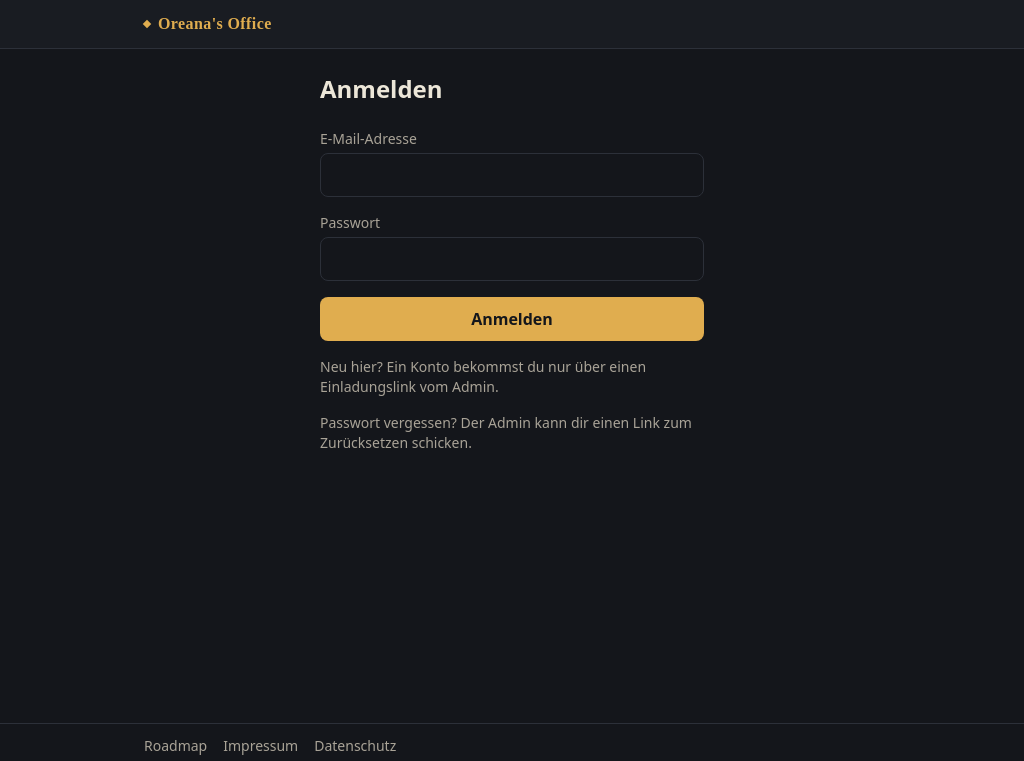
SignInPage › ignores a return path that leaves the app
Type "mira@example.org" into the field labelled "E-Mail-Adresse" at {"x": 512, "y": 175}, box [320, 153, 704, 197]
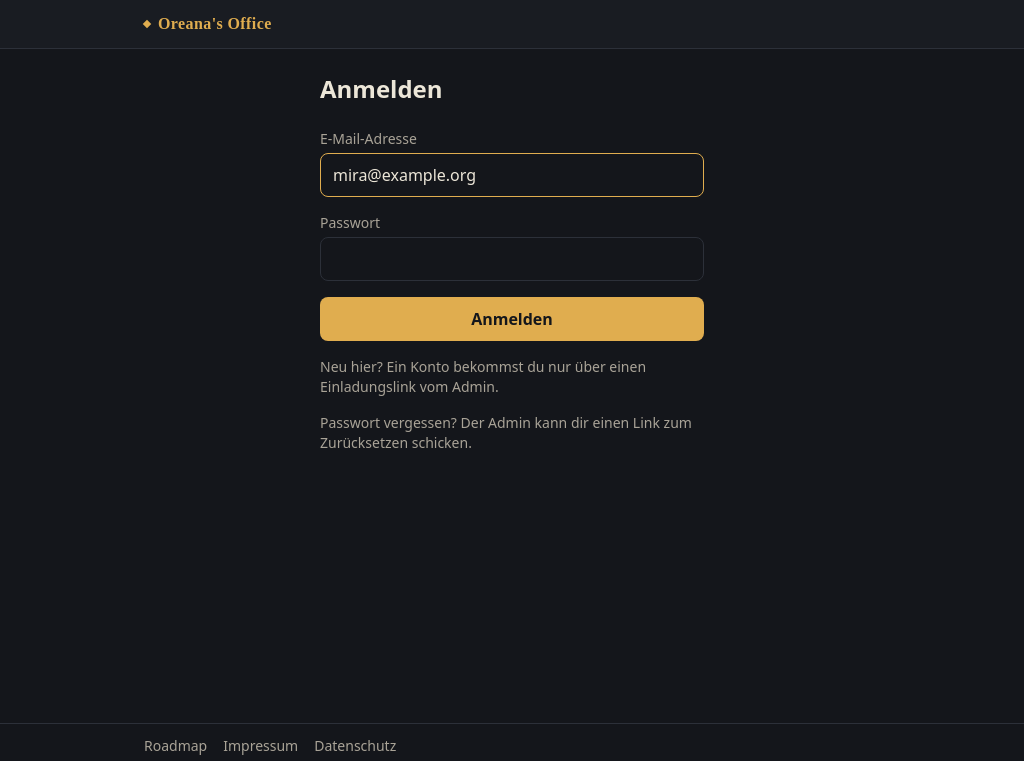
Type "geheim123" into the password field labelled "Passwort" at {"x": 512, "y": 259}, box [320, 237, 704, 281]
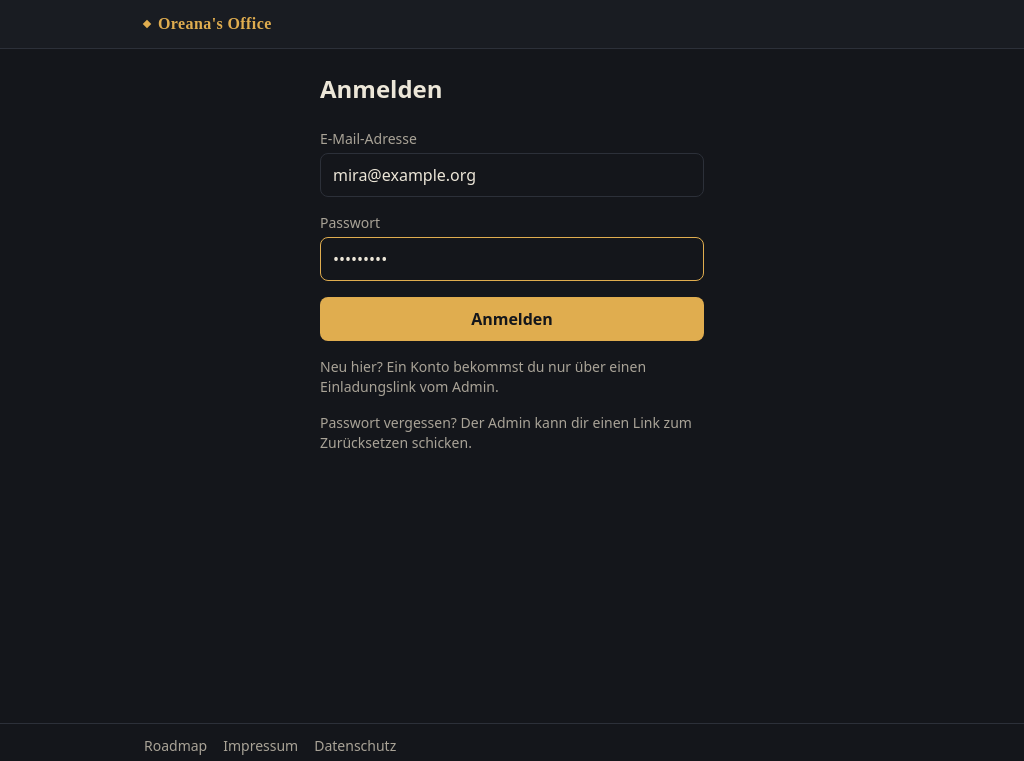
Click the button "Anmelden" at {"x": 512, "y": 319}, box [320, 297, 704, 341]
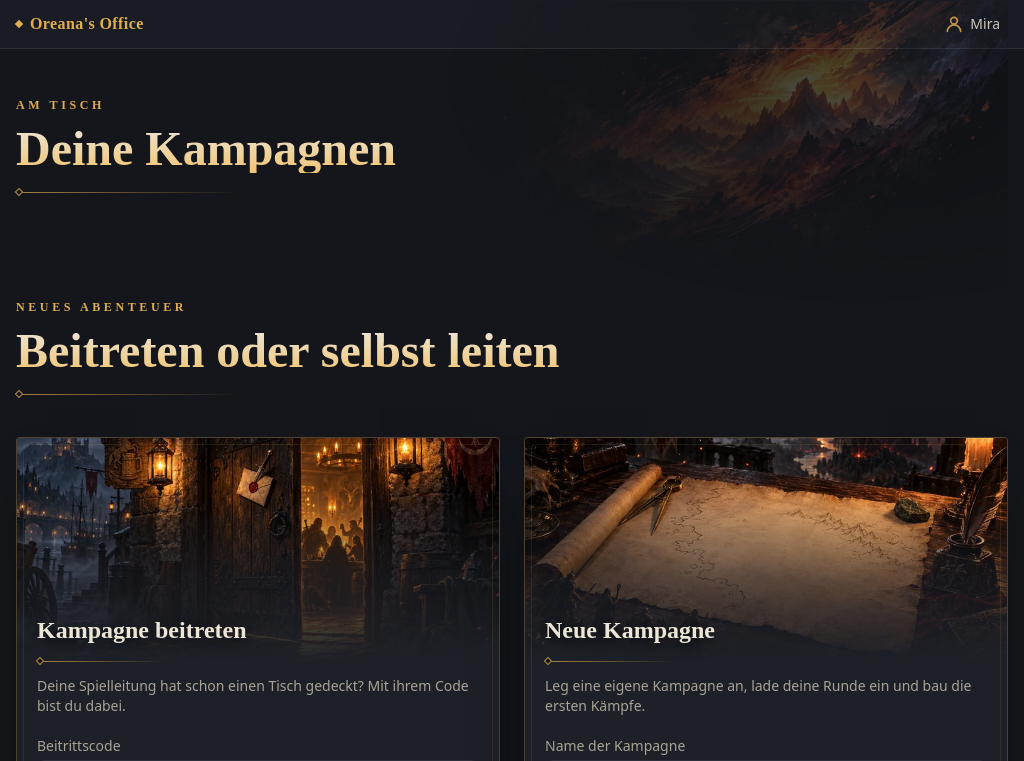
Check: the heading "Deine Kampagnen" is shown, box [16, 125, 1008, 173]
